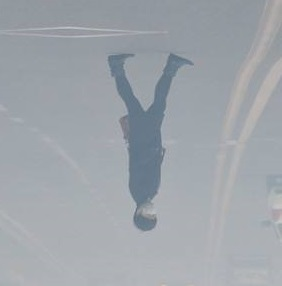person: (108, 51, 196, 234)
